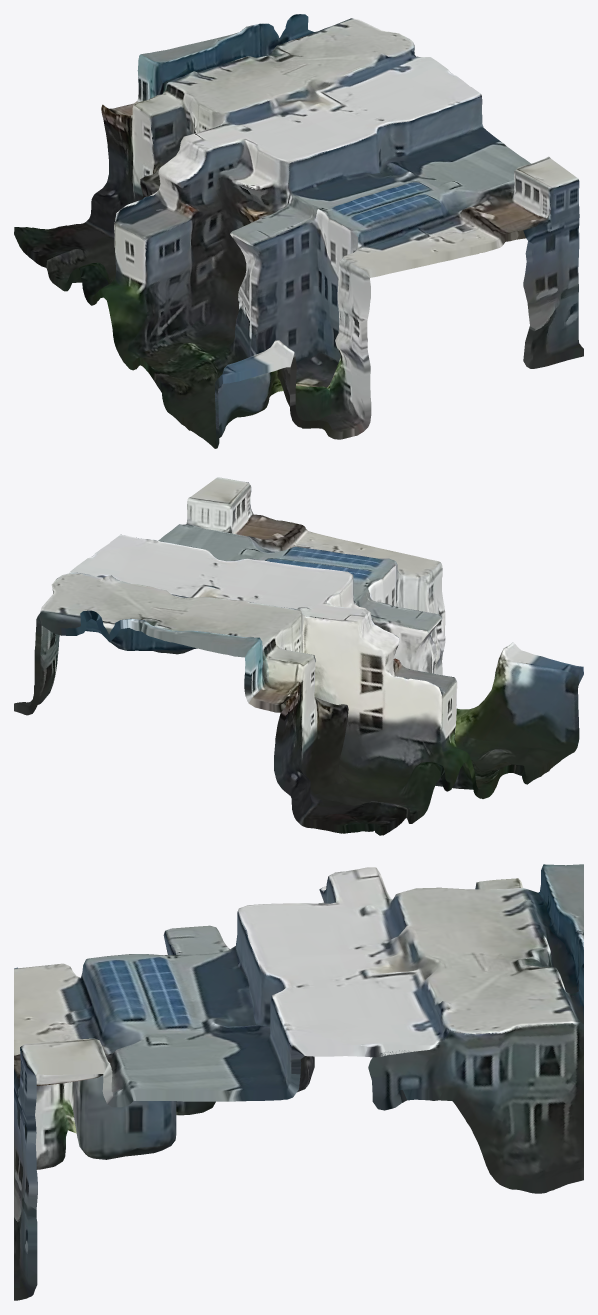
Rendered from z20-167721-405196-h0-yup-uvflip-v3-world.glb.
The picture shows the model from 3 angles, top to bottom: view 1: azimuth 30°, elevation 25°; view 2: azimuth 150°, elevation 25°; view 3: azimuth 270°, elevation 25°; orthographic projection. The views are drawn at different scales.
Bounding box in the file's own units: 30.2 × 18.64 × 30.32.
Materials: 1 (1 with a texture image).
